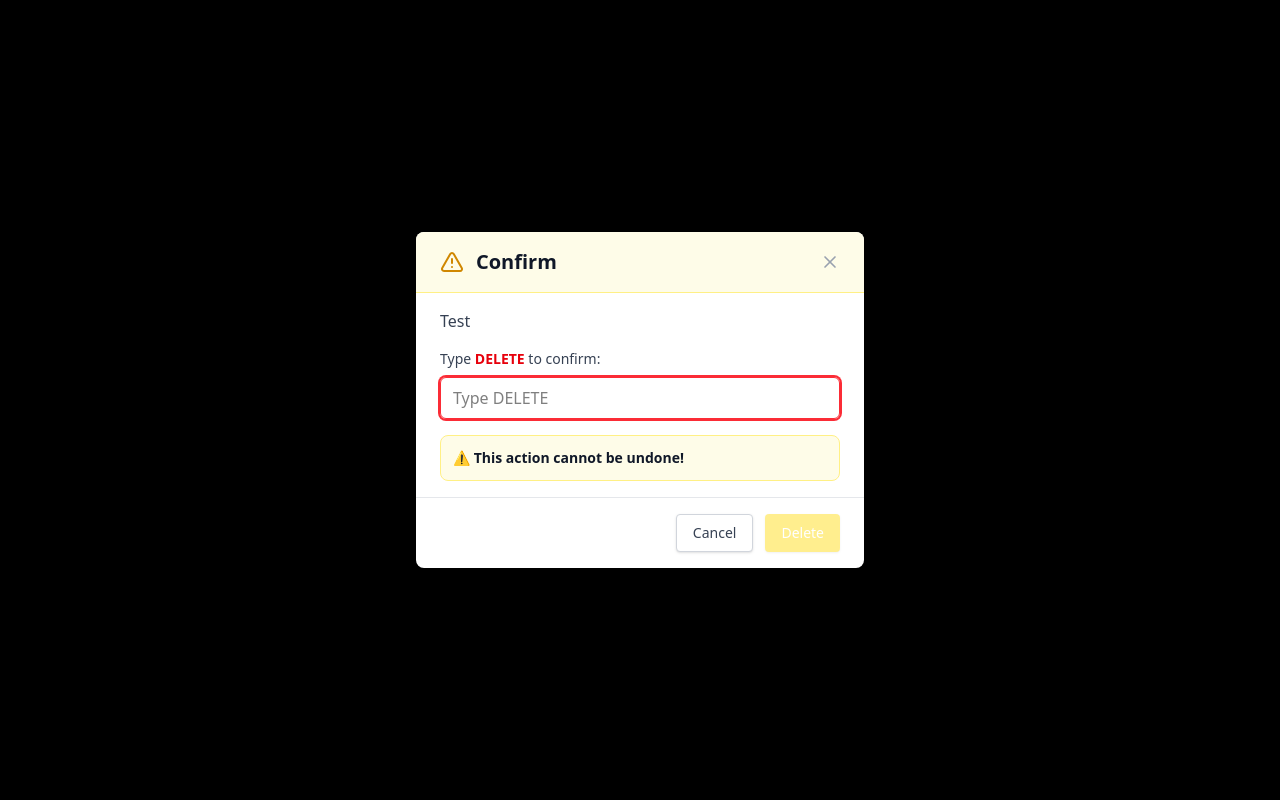
Scenario: ConfirmDialog › typed confirmation › should enable confirm button when typed word matches
The width and height of the screenshot is (1280, 800).
Type "DELETE" into the field with placeholder "Type DELETE" at (640, 398), box [440,377,840,419]
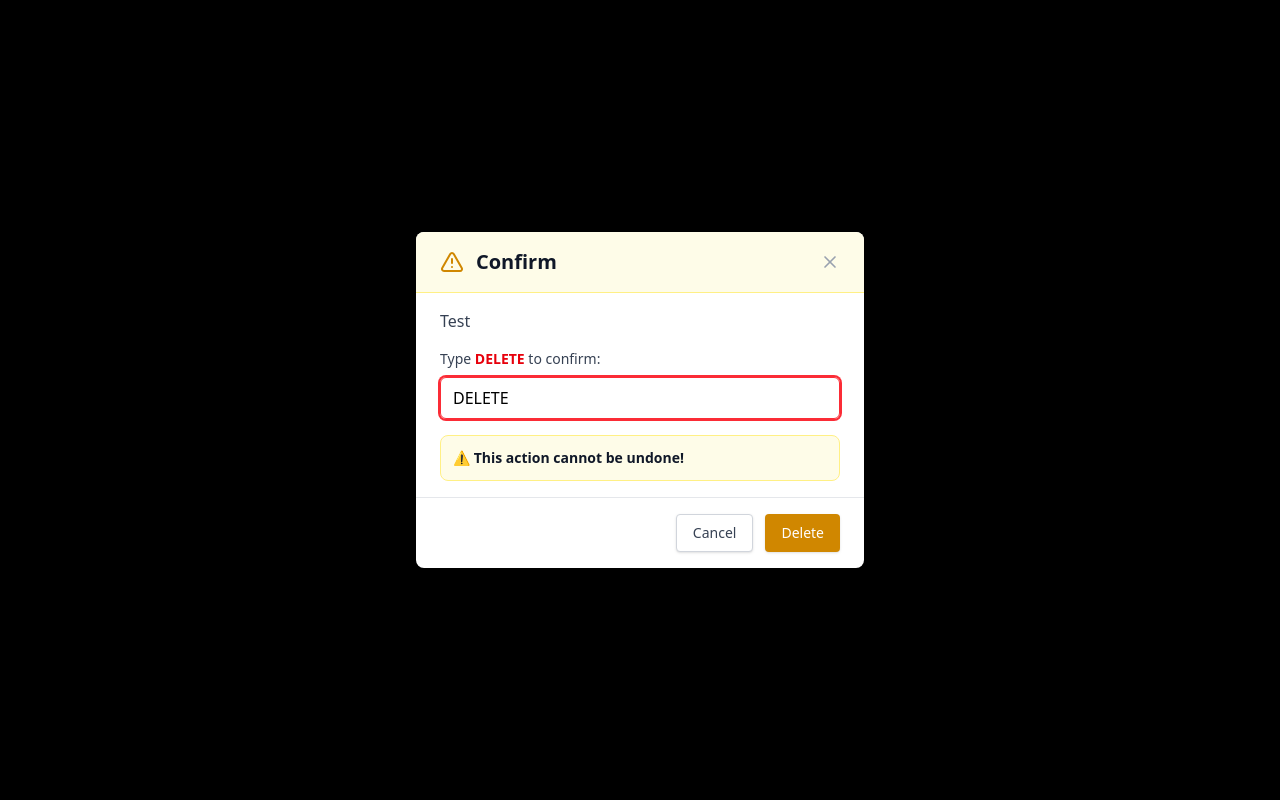
Check: the button "Delete" is enabled, box [765,514,840,552]
